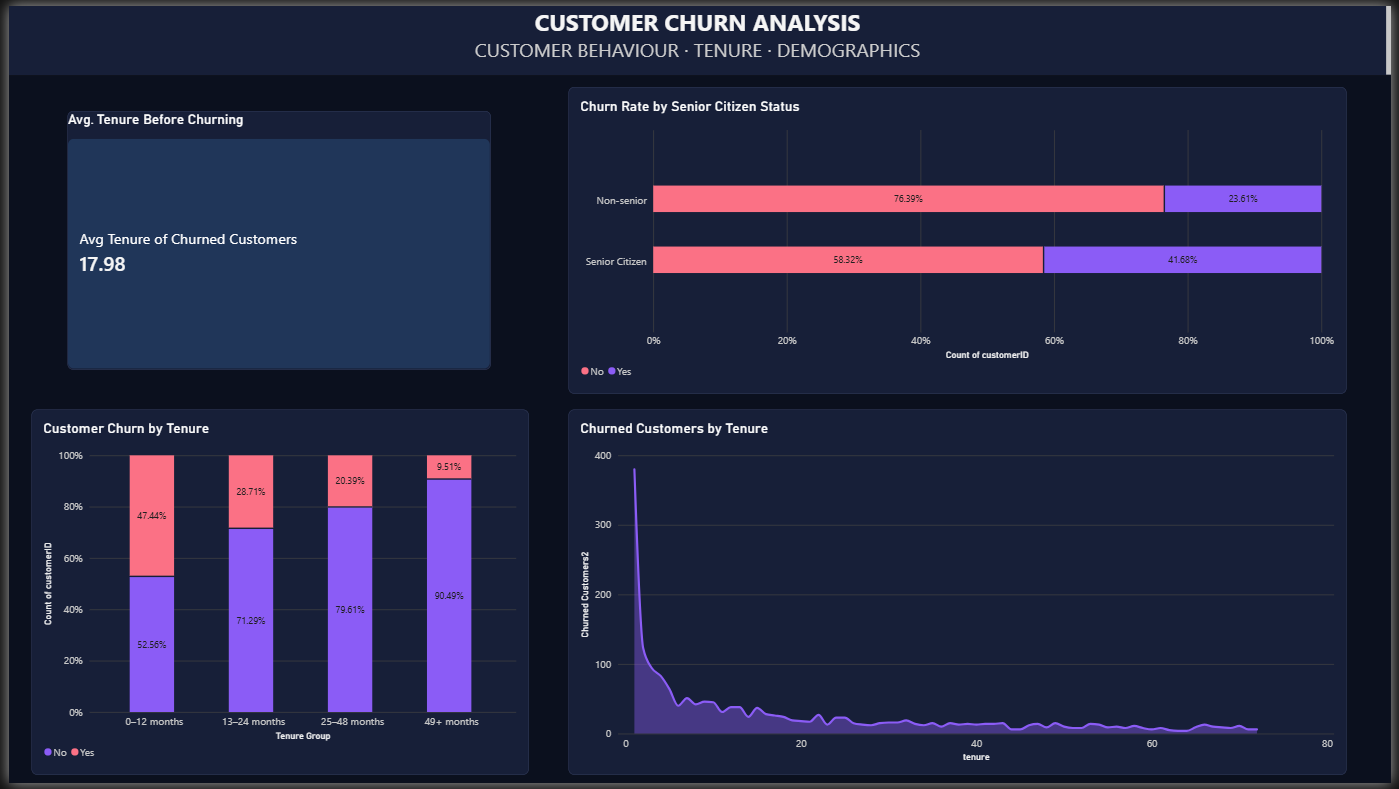

Layout of this report page (visuals, bound fields, positions):
{"tool":"powerbi","page":{"name":"customer churn analysis","canvas":[1920,1080],"ordinal":1},"visuals":[{"type":"hundredPercentStackedColumnChart","title":"Customer Churn by Tenure","fields":{"Category":["Telco-Customer-Churn.Tenure Group"],"Series":["Telco-Customer-Churn.Churn"],"Y":["Count(Telco-Customer-Churn.customerID)"]},"box":[31,559.5,690.5,507.1],"z":0},{"type":"hundredPercentStackedBarChart","title":"Churn Rate by Senior Citizen Status","fields":{"Category":["Telco-Customer-Churn.Senior Citizen Status"],"Series":["Telco-Customer-Churn.Churn"],"Y":["CountNonNull(Telco-Customer-Churn.customerID)"]},"box":[776.2,111.9,1081,426.2],"z":1000},{"type":"areaChart","title":"Churned Customers by Tenure","fields":{"Category":["Telco-Customer-Churn.tenure"],"Y":["Telco-Customer-Churn.Churned Customers2"]},"box":[776.2,559.5,1081,507.1],"z":2000},{"type":"cardVisual","title":"Avg. Tenure Before Churning","fields":{"Data":["Telco-Customer-Churn.Avg Tenure of Churned Customers"]},"box":[81,145.2,588.1,359.5],"z":3000},{"type":"shape","box":[0,0,1920.8,95.8],"z":4000},{"type":"textbox","box":[0,0,1920.8,95.8],"z":5000}]}

Visuals, with their boxes in screenshot pixels (x1, y1, x2, y2), scaled from the page's 1920x1080 canvas onto the 1399x789 screenshot:
"Customer Churn by Tenure" hundredPercentStackedColumnChart: 23 409 526 779
"Churn Rate by Senior Citizen Status" hundredPercentStackedBarChart: 566 82 1353 393
"Churned Customers by Tenure" areaChart: 566 409 1353 779
"Avg. Tenure Before Churning" cardVisual: 59 106 488 369
shape: 0 0 1398 70
textbox: 0 0 1398 70
